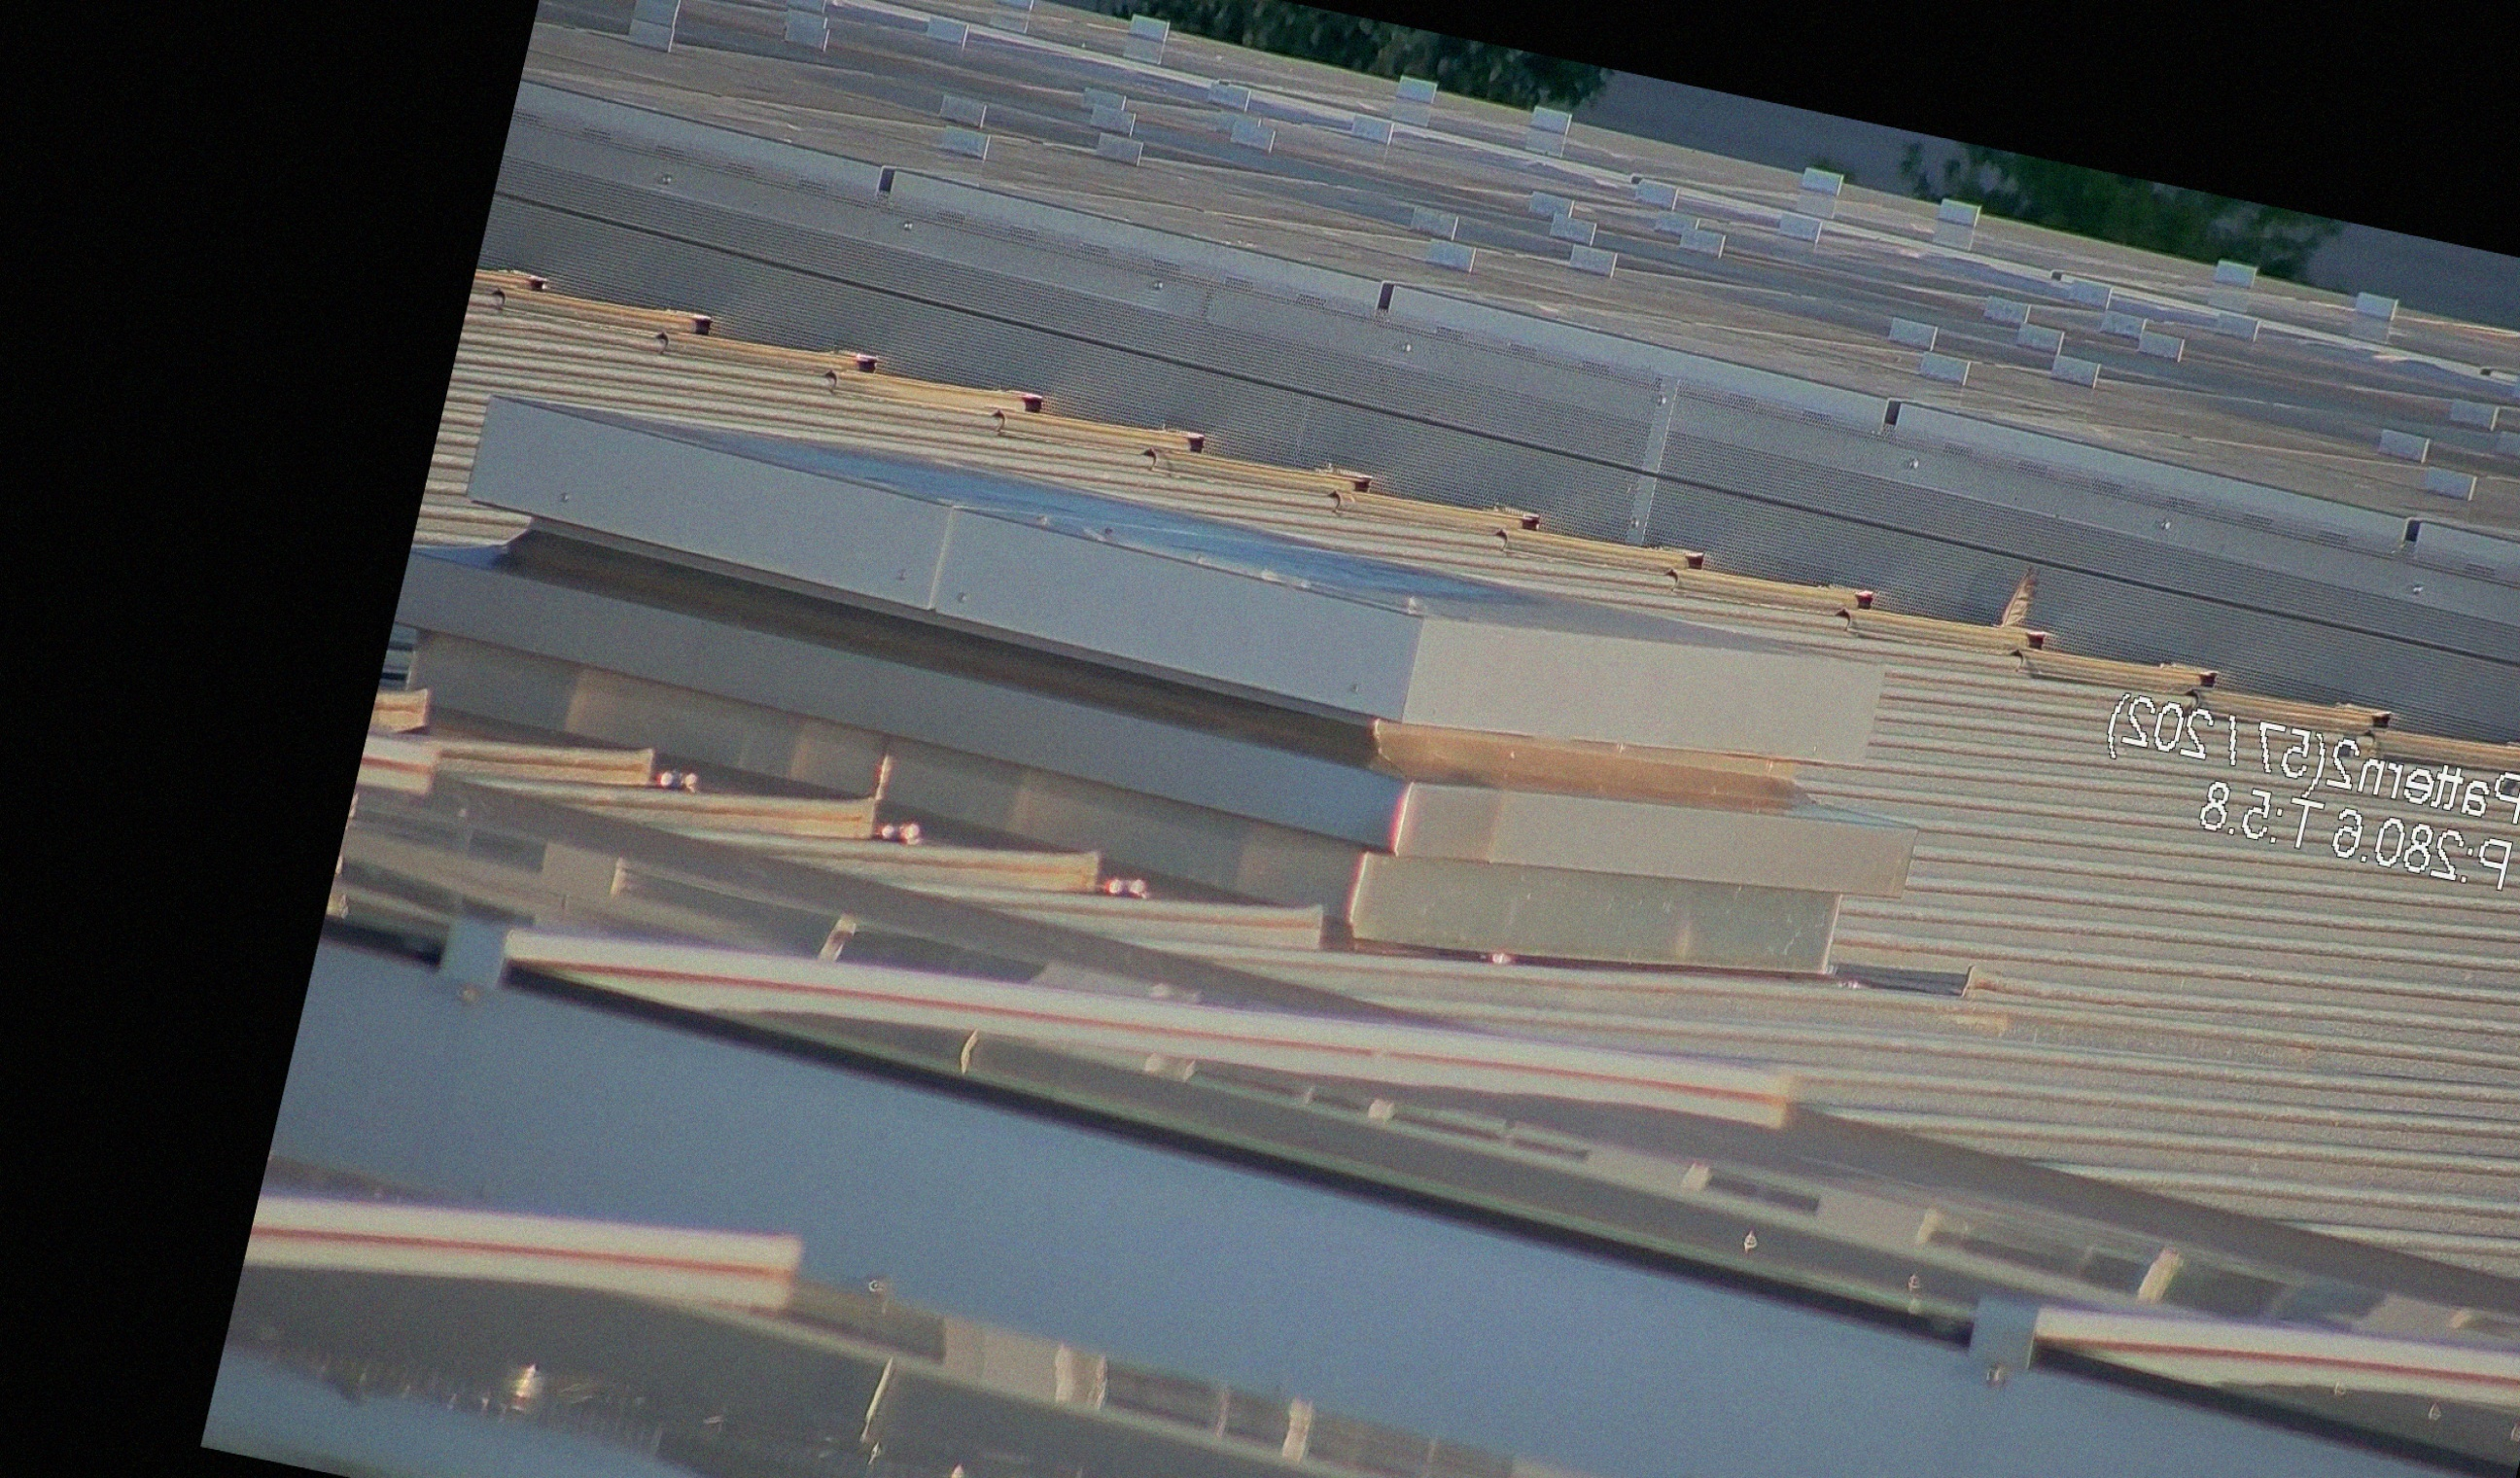Other: (1992, 547, 2068, 651)
